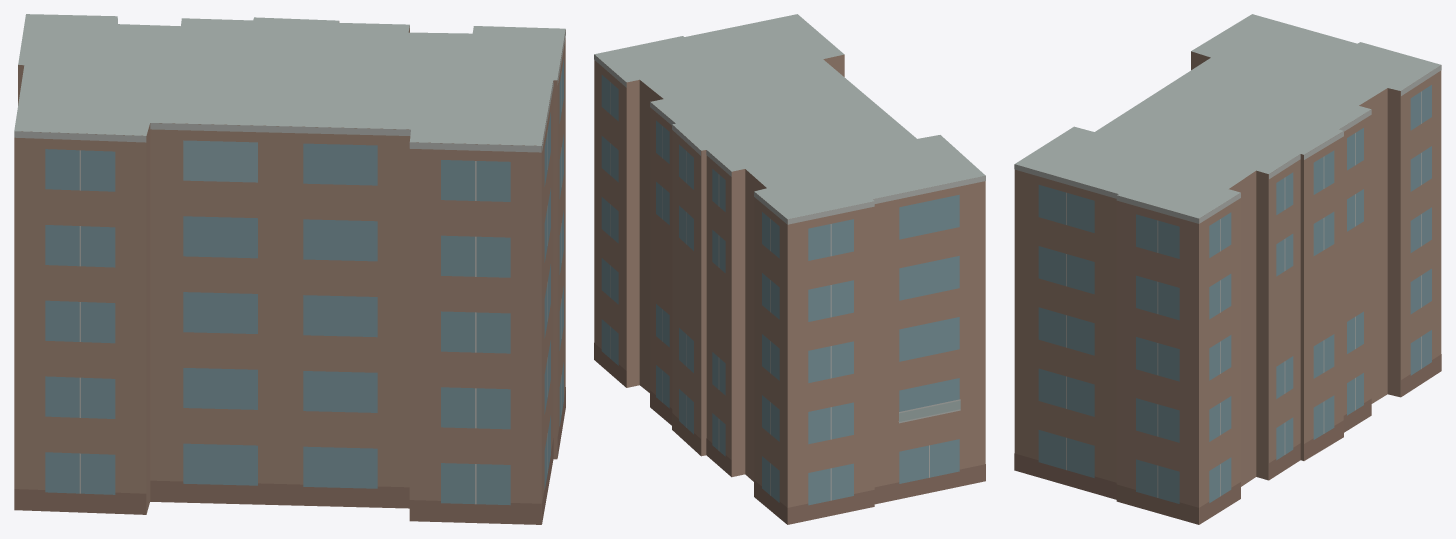
The model's file is survey-upis-33045202.glb.
3 renders of one model, left to right at view 1: azimuth 30°, elevation 25°; view 2: azimuth 150°, elevation 25°; view 3: azimuth 270°, elevation 25°, orthographic. The views are drawn at different scales.
Parts seen in each view (by area): view 1: survey-upis-33045202.tmp; view 2: survey-upis-33045202.tmp; view 3: survey-upis-33045202.tmp.
Part boxes in pixels (box(x1,y1,x2,y2)): survey-upis-33045202.tmp: box(14, 14, 565, 524); survey-upis-33045202.tmp: box(594, 14, 985, 524); survey-upis-33045202.tmp: box(1014, 14, 1441, 524).
Bounding box in the file's own units: 19.99 × 13.95 × 17.63.
